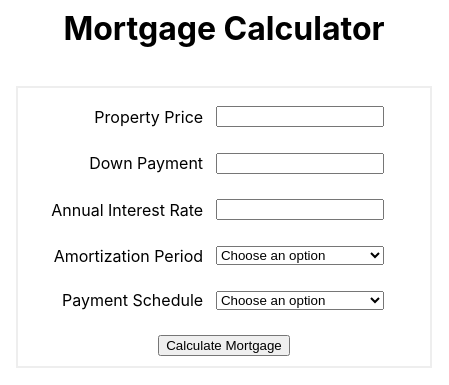
Test: Calculator › should show formatted price with $ in front of the value
The width and height of the screenshot is (449, 385).
In the field labelled "Property Price": (300, 117) 216,106 -> 384,127, type "$45000"
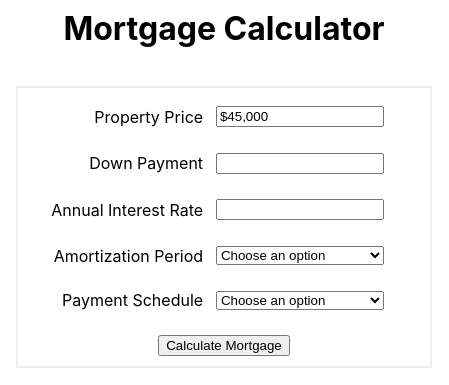
Now the field labelled "Property Price" holds "$45,000", box 216,106 -> 384,127
